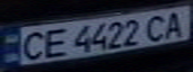2: (121, 16, 148, 47), (106, 17, 127, 51)
4: (69, 21, 93, 54), (90, 20, 112, 53)
A: (157, 9, 190, 38)
C: (15, 28, 51, 62), (139, 11, 175, 43)
E: (36, 25, 72, 58)
